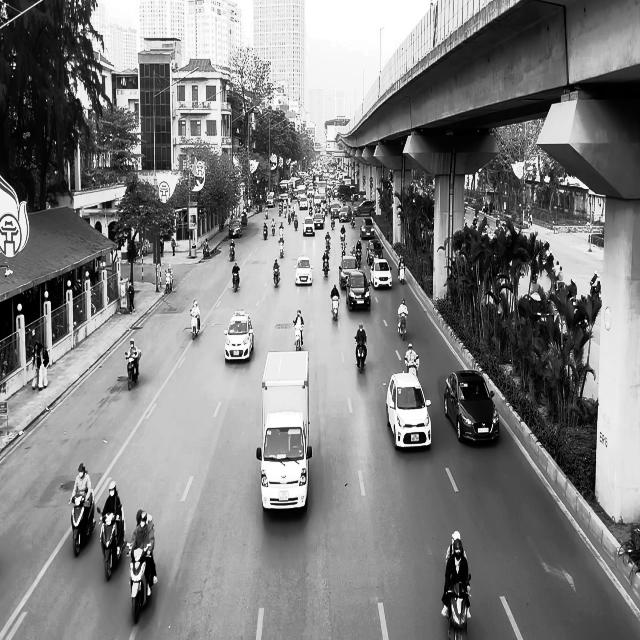car: (444, 369, 499, 444), (384, 372, 432, 450), (224, 309, 254, 362), (345, 270, 371, 311), (370, 258, 392, 289), (338, 256, 359, 288), (294, 256, 313, 285), (360, 216, 375, 239), (228, 219, 242, 238), (302, 216, 315, 236)
motorbike: (126, 543, 154, 624), (96, 504, 125, 581), (69, 491, 95, 557), (446, 576, 471, 640), (124, 349, 141, 390), (354, 336, 367, 372), (292, 321, 304, 351), (190, 310, 200, 340), (397, 314, 407, 339), (331, 295, 339, 321), (322, 253, 329, 277), (232, 270, 239, 292), (273, 264, 280, 286), (202, 241, 210, 259), (278, 237, 285, 257), (398, 266, 405, 284), (229, 242, 235, 262), (262, 223, 268, 239)
truck: (256, 349, 312, 512)
